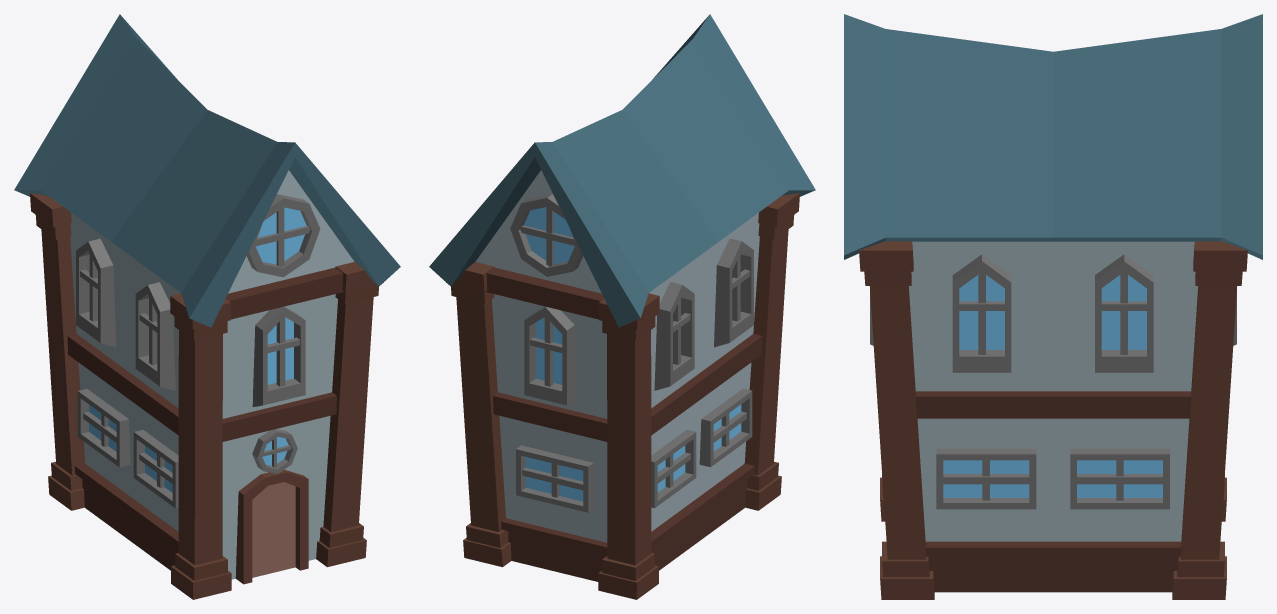
The model's file is CASA04.fbx.
3 renders of one model, left to right at view 1: azimuth 30°, elevation 25°; view 2: azimuth 150°, elevation 25°; view 3: azimuth 270°, elevation 25°, orthographic. The views are drawn at different scales.
Visible parts, largest first — view 1: CASA04; view 2: CASA04; view 3: CASA04.
Part boxes in pixels (x1,y1,x2,y2): CASA04: (14, 14, 400, 599); CASA04: (429, 14, 815, 599); CASA04: (844, 14, 1262, 599).
Bounding box in the file's own units: 586 × 1185 × 840.
1 material, 1 textured.
